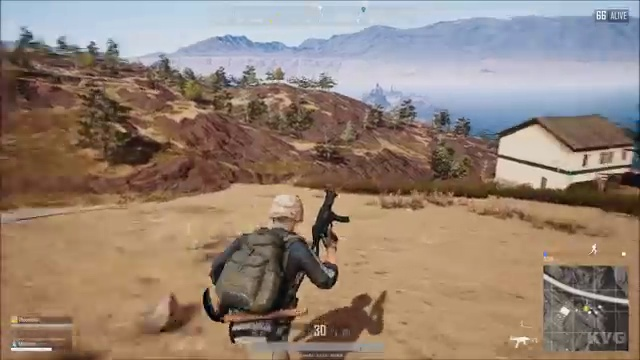Player: (188, 184, 360, 320)
